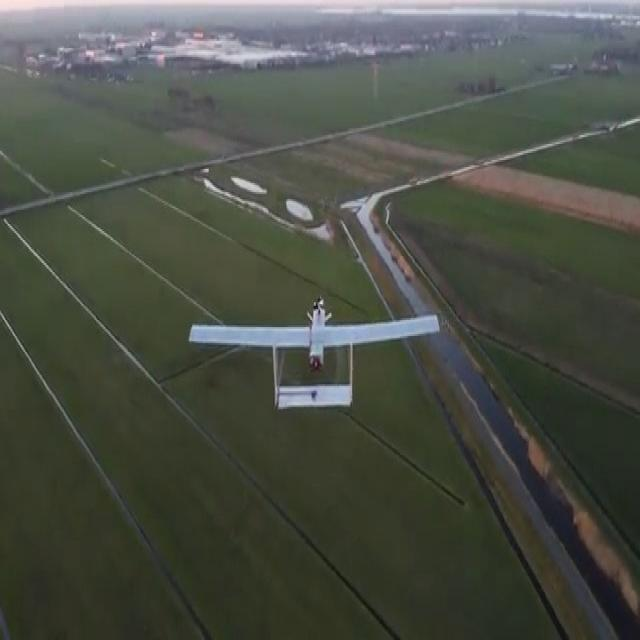iha: (191, 292, 438, 426)
